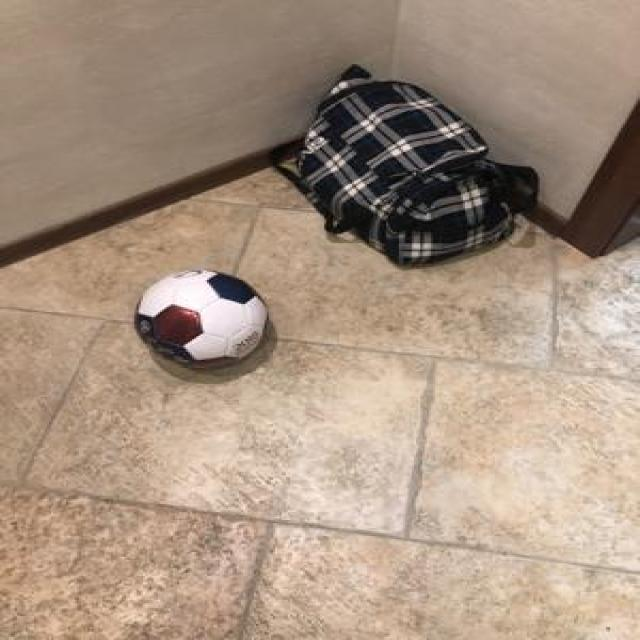Soccer Ball: (128, 264, 269, 370)
